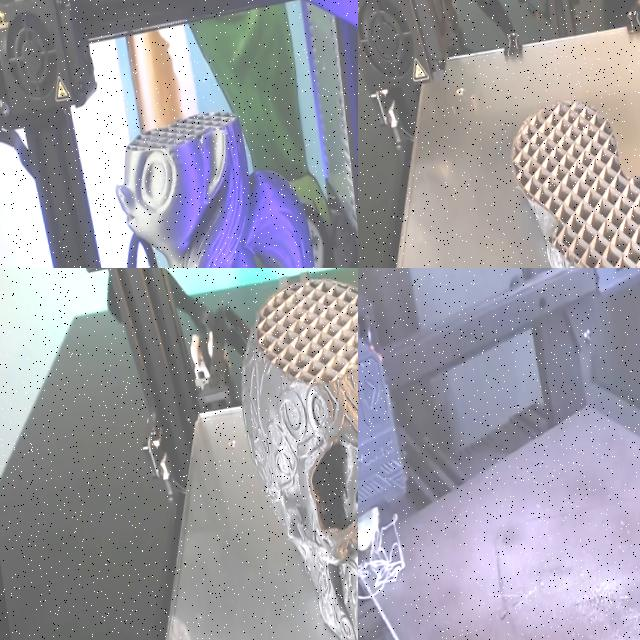spaghetti: (358, 513, 412, 599)
